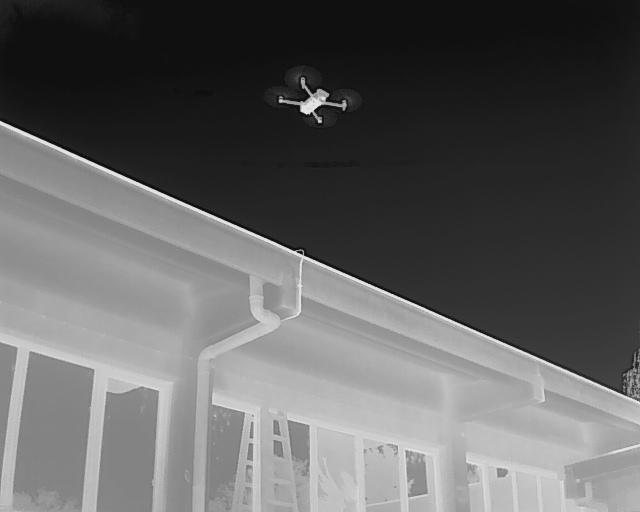drone: (260, 61, 365, 131)
